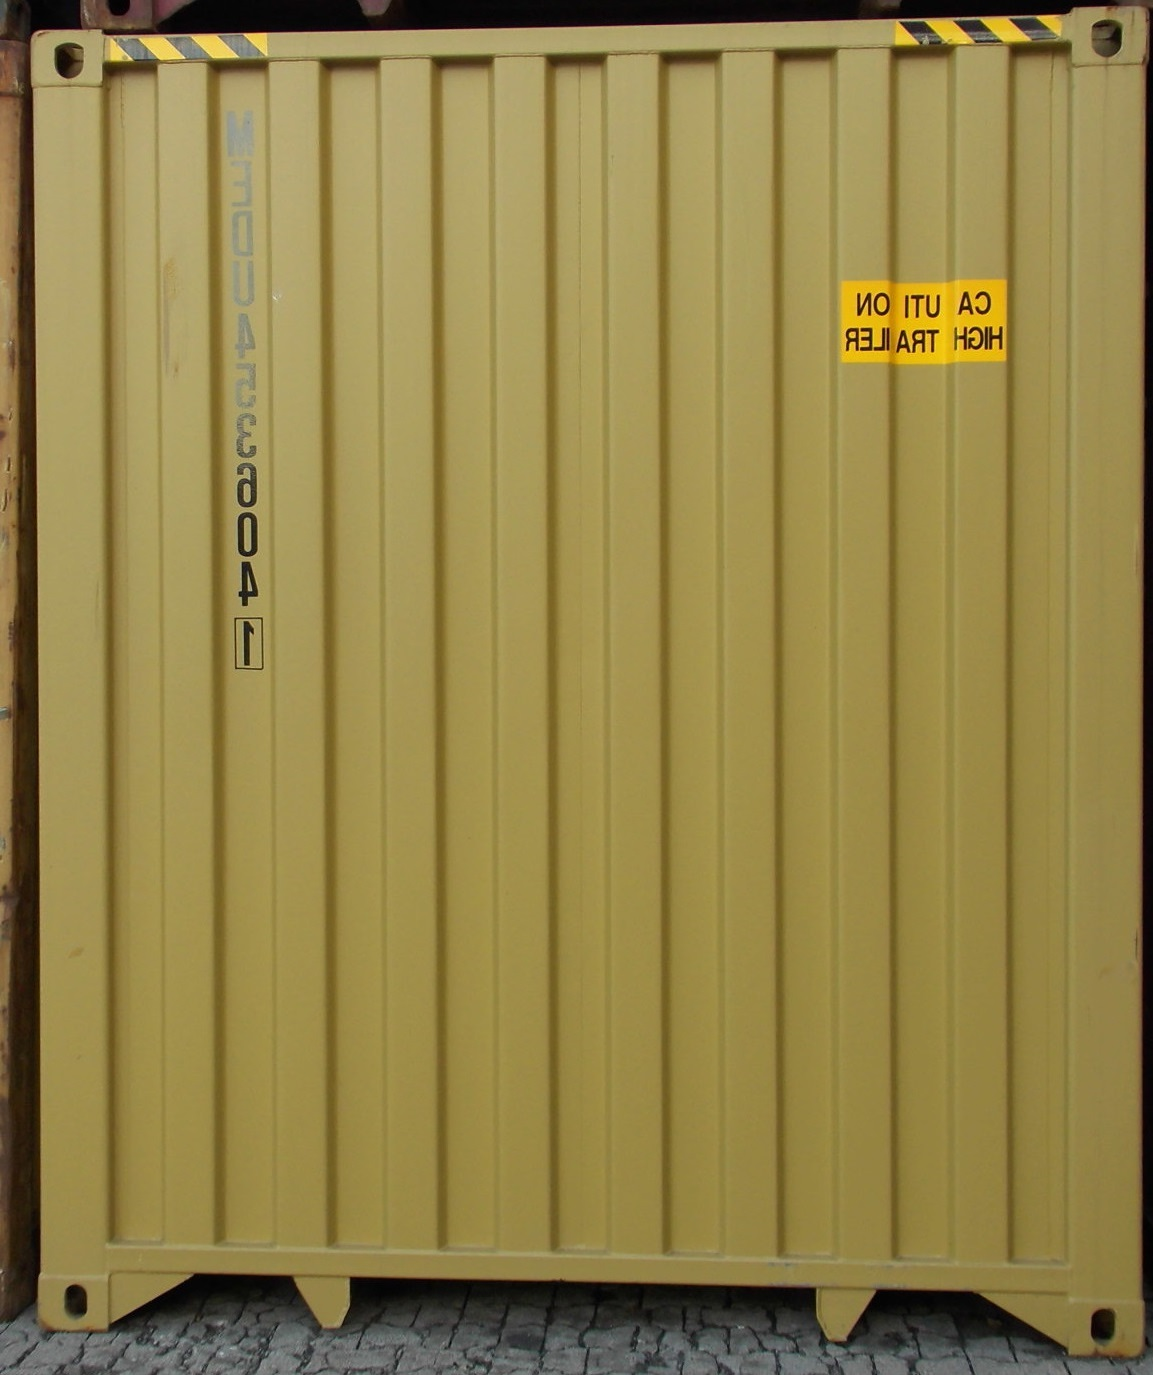container_no_door: (37, 14, 1139, 1335)
